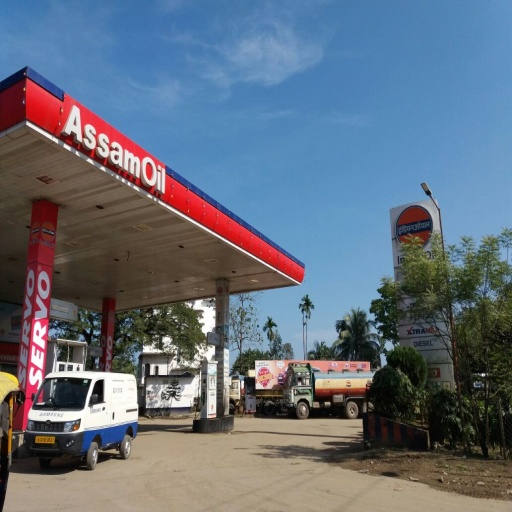roof: (1, 68, 310, 318)
